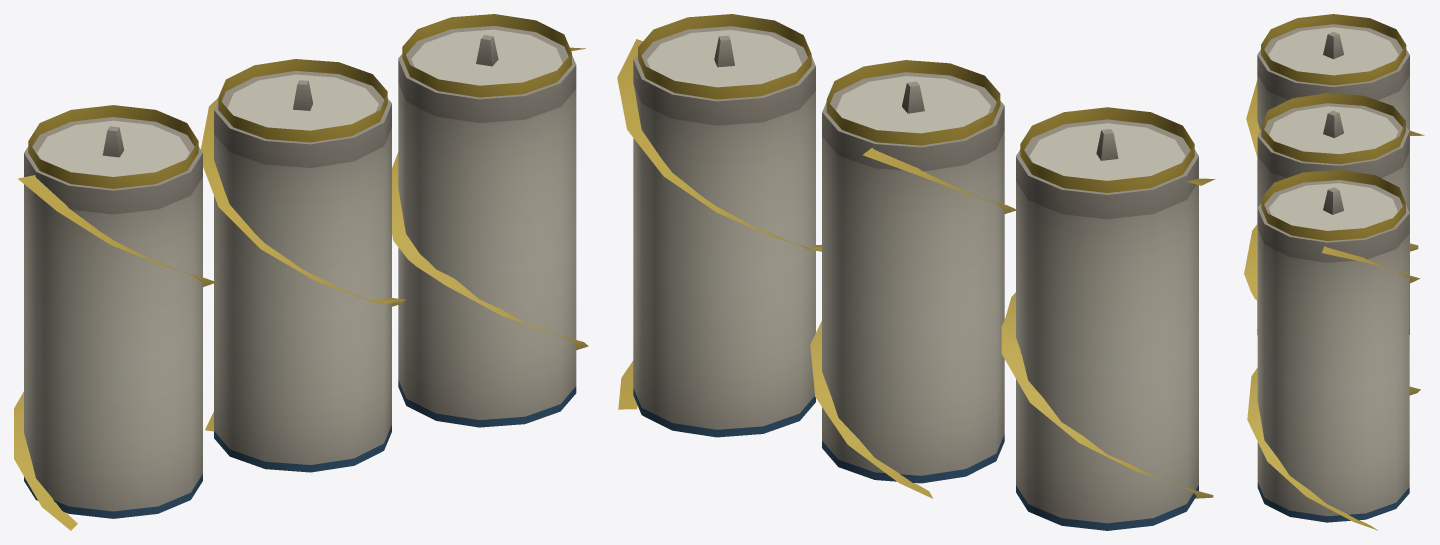
File: SM_Factory_Silo_03.fbx
The picture shows the model from 3 angles, left to right: view 1: azimuth 30°, elevation 25°; view 2: azimuth 150°, elevation 25°; view 3: azimuth 270°, elevation 25°; orthographic projection. The views are drawn at different scales.
Visible parts, largest first — view 1: SM_Factory_Silo_03; view 2: SM_Factory_Silo_03; view 3: SM_Factory_Silo_03.
Part boxes in pixels (box(x1,y1,x2,y2)): SM_Factory_Silo_03: box(14, 14, 588, 530); SM_Factory_Silo_03: box(617, 14, 1215, 530); SM_Factory_Silo_03: box(1244, 14, 1424, 530).
Bounding box in the file's own units: 4.5 × 2.78 × 1.48.
